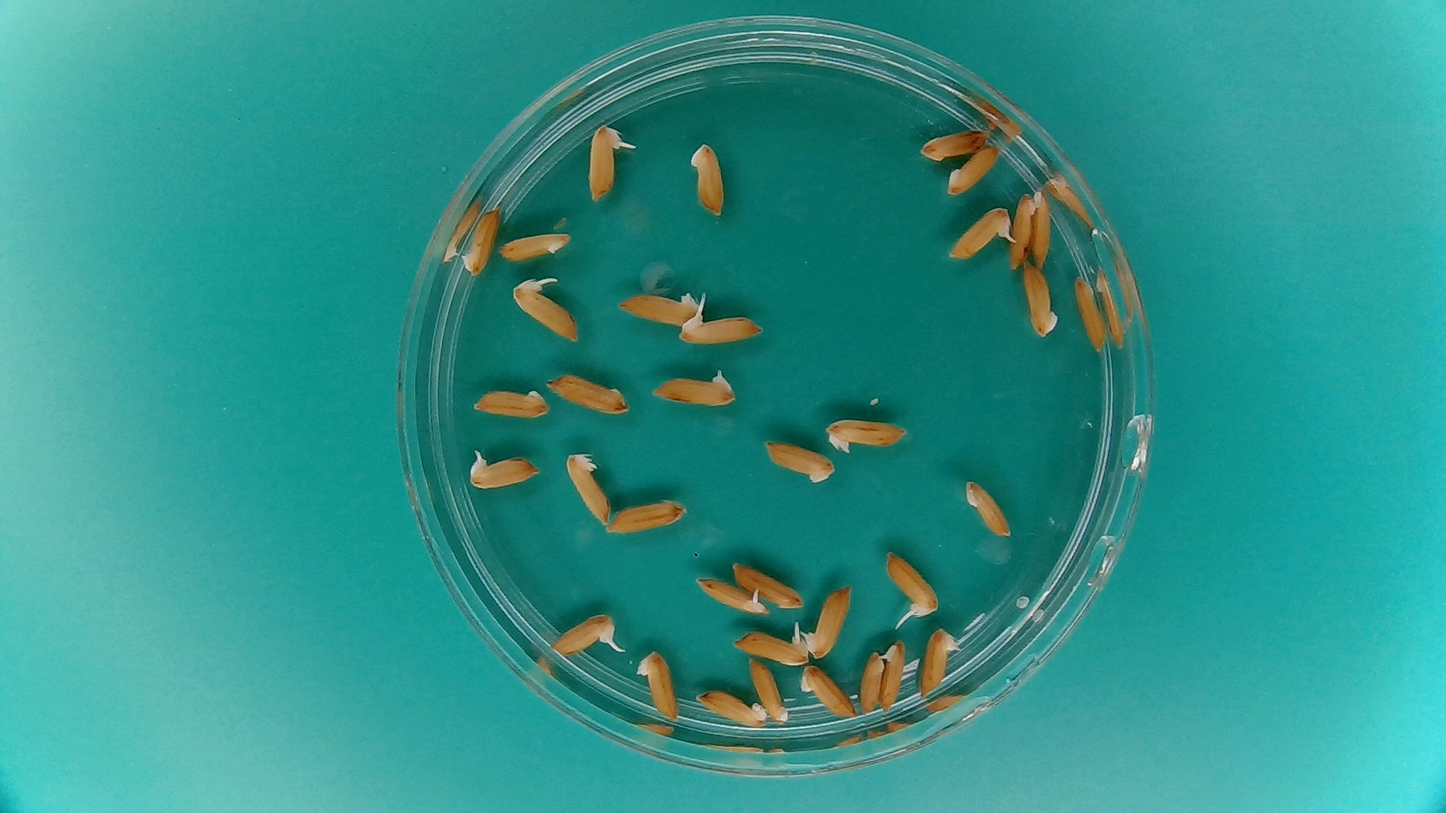no: (563, 449, 613, 528), (545, 370, 630, 415), (730, 560, 806, 609), (825, 413, 911, 455), (615, 286, 703, 327), (761, 438, 836, 486), (603, 495, 688, 537), (635, 647, 680, 722), (458, 202, 503, 276), (945, 140, 1003, 197), (962, 477, 1014, 540), (687, 139, 728, 218), (801, 665, 859, 720), (1020, 262, 1060, 340), (694, 687, 768, 729), (747, 658, 792, 727), (1072, 272, 1110, 353), (495, 228, 576, 265), (469, 385, 551, 421), (916, 124, 990, 162), (1007, 187, 1036, 269), (1030, 184, 1051, 268), (859, 648, 884, 716)
yes: (883, 549, 941, 621), (508, 282, 581, 338), (947, 204, 1015, 263), (649, 368, 740, 410), (801, 586, 853, 659), (463, 448, 542, 491), (728, 628, 810, 668), (918, 626, 959, 698), (549, 614, 621, 655), (678, 314, 766, 347), (697, 575, 767, 615), (587, 123, 622, 203), (878, 635, 909, 711)
